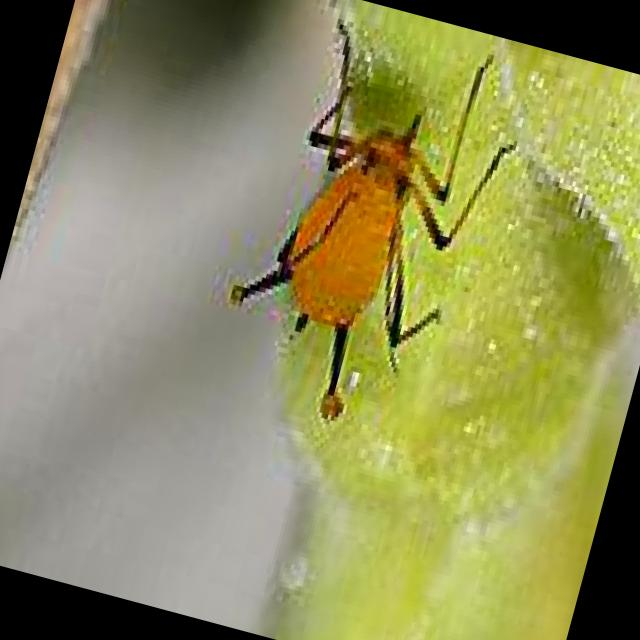Aphids: (179, 12, 533, 458)
